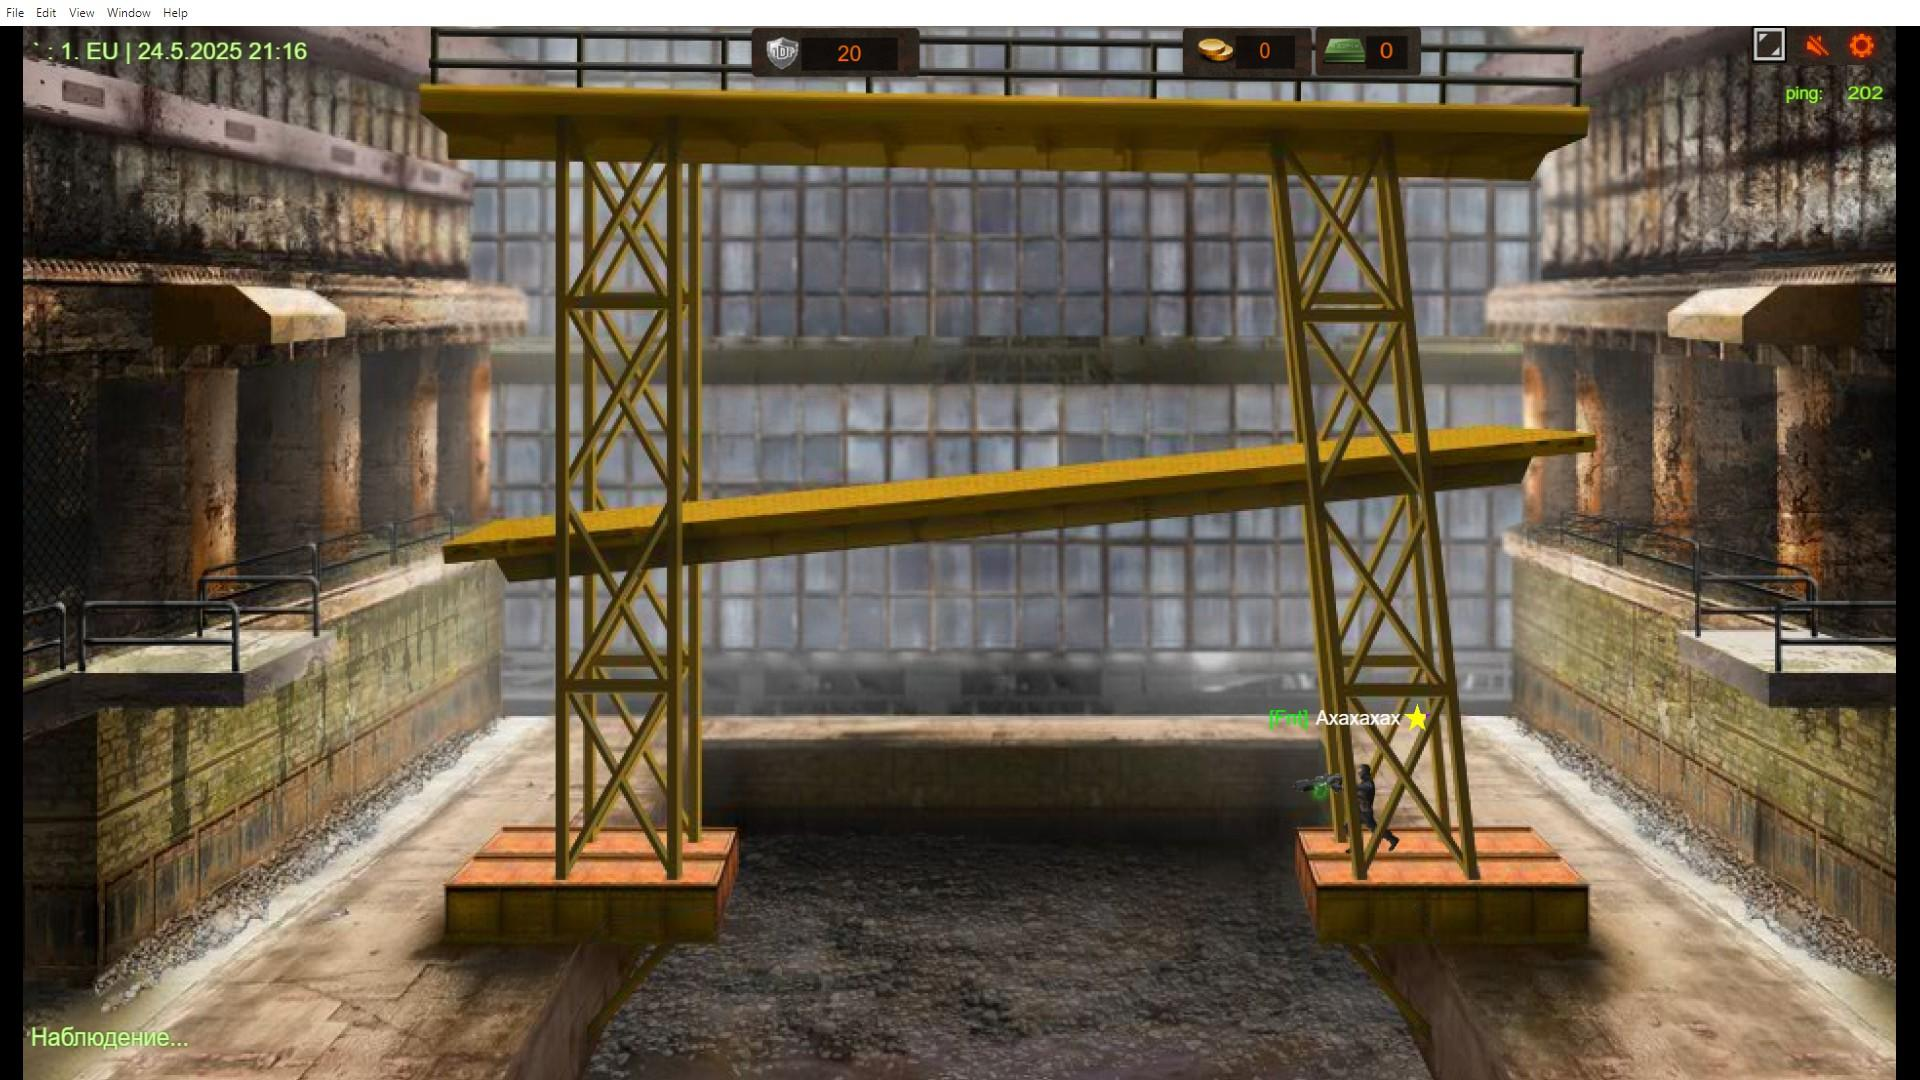enemy: (1349, 767, 1377, 855)
